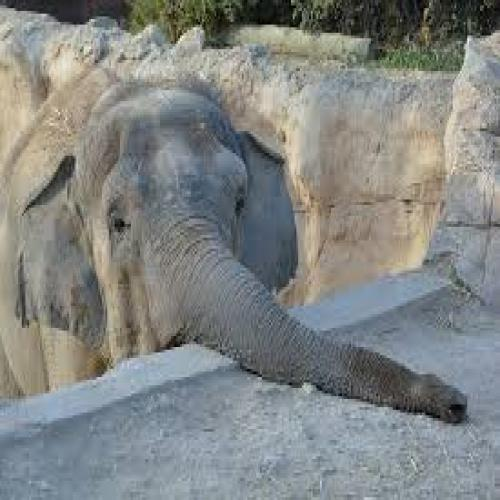asian_elephant-endangered: (0, 77, 468, 423)
